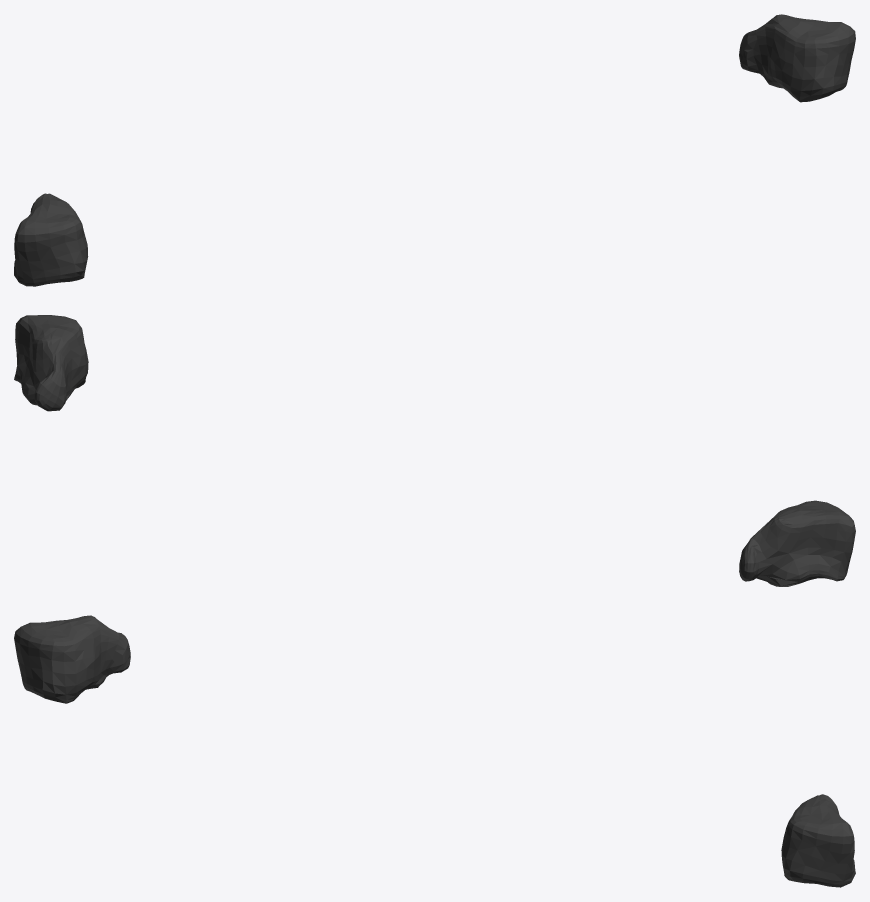
Rendered from Tarsal_third_1.glb.
3 renders of one model, top to bottom at view 1: azimuth 30°, elevation 25°; view 2: azimuth 150°, elevation 25°; view 3: azimuth 330°, elevation 25°, orthographic.
Parts seen in each view (by area): view 1: Tarsal_third_1; view 2: Tarsal_third_1; view 3: Tarsal_third_1.
Part boxes in pixels (<box>): Tarsal_third_1: <box>14,14,855,286</box>; Tarsal_third_1: <box>14,315,855,586</box>; Tarsal_third_1: <box>14,615,855,887</box>.
Bounding box in the file's own units: 0.005 × 0.000381 × 0.00062.
1 material, 1 textured.
